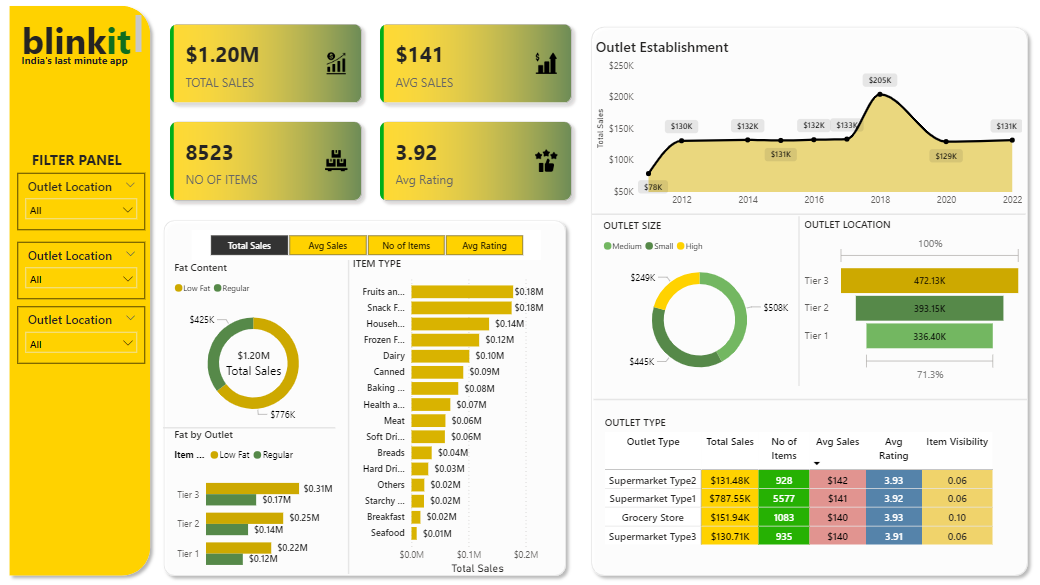

The page's visual inventory and layout, read from the dashboard file:
{"tool":"powerbi","page":{"name":"Page 1","canvas":[1400,800],"ordinal":0},"visuals":[{"type":"shape","box":[10,0,206,778],"z":0},{"type":"textbox","box":[30,66.4,176.4,32.1],"z":1000},{"type":"textbox","box":[30,15.7,170,66.4],"z":2000},{"type":"cardVisual","fields":{"Data":["BlinkIT Grocery Data.Total Sales","BlinkIT Grocery Data.Avg Sales","BlinkIT Grocery Data.No of Items","BlinkIT Grocery Data.Avg Rating"]},"box":[215,15,570,270],"z":3000},{"type":"shape","box":[216,286,554,492],"z":4000},{"type":"slicer","fields":{"Values":["Metrics.Metrics"]},"box":[262,308,466,40],"z":5000},{"type":"donutChart","title":"Fat Content","fields":{"Y":["BlinkIT Grocery Data.Total Sales"],"Category":["BlinkIT Grocery Data.Item Fat Content"]},"box":[234,348,220,230],"z":6000},{"type":"cardVisual","fields":{"Data":["BlinkIT Grocery Data.Total Sales"]},"box":[282,438,126,94],"z":7000},{"type":"clusteredBarChart","title":"Fat by Outlet","fields":{"Y":["BlinkIT Grocery Data.Total Sales"],"Category":["BlinkIT Grocery Data.Outlet Location Type"],"Series":["BlinkIT Grocery Data.Item Fat Content"]},"box":[233.3,570.9,220.9,206.8],"z":8000},{"type":"shape","box":[452.4,348.2,38.9,418.9],"z":9000},{"type":"shape","box":[224.5,553.2,229.8,35.3],"z":10000},{"type":"barChart","title":"ITEM TYPE","fields":{"Y":["BlinkIT Grocery Data.Total Sales"],"Category":["BlinkIT Grocery Data.Item Type"]},"box":[471.9,342.9,281,429.5],"z":11000},{"type":"shape","box":[786.7,28.3,600,750],"z":12000},{"type":"lineChart","title":"Outlet Establishment ","fields":{"Y":["BlinkIT Grocery Data.Total Sales"],"Category":["BlinkIT Grocery Data.Outlet Establishment Year"]},"box":[796,50,578,236],"z":13000},{"type":"shape","box":[796,266,578,42],"z":14000},{"type":"donutChart","title":"OUTLET SIZE","fields":{"Y":["BlinkIT Grocery Data.Total Sales"],"Category":["BlinkIT Grocery Data.Outlet Size"]},"box":[806,292,266,226],"z":15000},{"type":"shape","box":[1052,290,40,226],"z":16000},{"type":"funnel","title":"OUTLET LOCATION","fields":{"Y":["Sum(BlinkIT Grocery Data.Sales)"],"Category":["BlinkIT Grocery Data.Outlet Location Type"]},"box":[1074,290,300,226],"z":17000},{"type":"shape","box":[798,518,578,32],"z":18000},{"type":"pivotTable","title":"OUTLET TYPE","fields":{"Values":["BlinkIT Grocery Data.Total Sales","BlinkIT Grocery Data.No of Items","BlinkIT Grocery Data.Avg Sales","BlinkIT Grocery Data.Avg Rating","Avg(BlinkIT Grocery Data.Item Visibility)"],"Rows":["BlinkIT Grocery Data.Outlet Type"]},"box":[808,554,554,184],"z":19000},{"type":"slicer","fields":{"Values":["BlinkIT Grocery Data.Outlet Location Type"]},"box":[30,232,170,76],"z":19001},{"type":"slicer","fields":{"Values":["BlinkIT Grocery Data.Outlet Size"]},"box":[30,324,170,76],"z":19002},{"type":"slicer","fields":{"Values":["BlinkIT Grocery Data.Item Type"]},"box":[30,410,170,76],"z":19003},{"type":"textbox","box":[44,196,162,36],"z":19004}]}

Visuals, with their boxes in screenshot pixels (x1, y1, x2, y2), scaled from the page's 1400x800 canvas onto the 1040x585 screenshot:
shape: (7, 0, 160, 569)
textbox: (22, 49, 153, 72)
textbox: (22, 11, 149, 60)
cardVisual - BlinkIT Grocery Data.Total Sales x BlinkIT Grocery Data.Avg Sales: (160, 11, 583, 208)
shape: (160, 209, 572, 569)
slicer - Metrics.Metrics: (195, 225, 541, 254)
"Fat Content" donutChart: (174, 254, 337, 423)
cardVisual - BlinkIT Grocery Data.Total Sales: (209, 320, 303, 389)
"Fat by Outlet" clusteredBarChart: (173, 417, 337, 569)
shape: (336, 255, 365, 561)
shape: (167, 405, 337, 430)
"ITEM TYPE" barChart: (351, 251, 559, 565)
shape: (584, 21, 1030, 569)
"Outlet Establishment " lineChart: (591, 37, 1021, 209)
shape: (591, 195, 1021, 225)
"OUTLET SIZE" donutChart: (599, 214, 796, 379)
shape: (781, 212, 811, 377)
"OUTLET LOCATION" funnel: (798, 212, 1021, 377)
shape: (593, 379, 1022, 402)
"OUTLET TYPE" pivotTable: (600, 405, 1012, 540)
slicer - BlinkIT Grocery Data.Outlet Location Type: (22, 170, 149, 225)
slicer - BlinkIT Grocery Data.Outlet Size: (22, 237, 149, 292)
slicer - BlinkIT Grocery Data.Item Type: (22, 300, 149, 355)
textbox: (33, 143, 153, 170)
